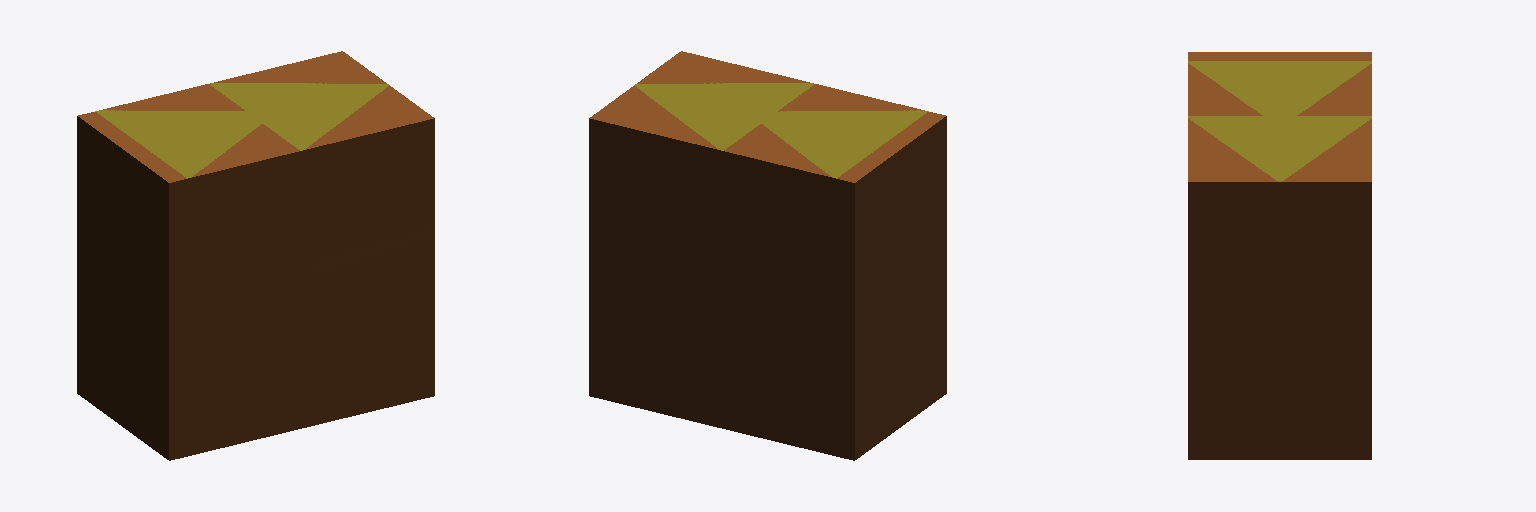
The picture shows the model from 3 angles: view 1: azimuth 30°, elevation 25°; view 2: azimuth 150°, elevation 25°; view 3: azimuth 270°, elevation 25°; orthographic projection.
Parts seen in each view (by area): view 1: Cube; view 2: Cube; view 3: Cube.
Boxes of the visible parts, x1=… form: Cube: x1=77, y1=51, x2=434, y2=460; Cube: x1=589, y1=51, x2=946, y2=460; Cube: x1=1188, y1=52, x2=1371, y2=459.
Bounding box in the file's own units: 1 × 1 × 0.6.
1 materials, 1 textured.